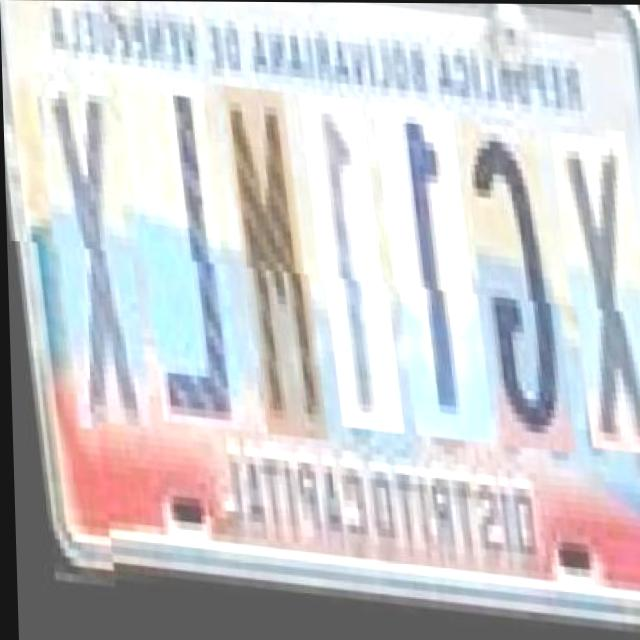1: (370, 109, 479, 448), (297, 102, 388, 439)
g: (457, 125, 561, 456)
l: (116, 85, 231, 441)
m: (220, 94, 312, 449)
x: (29, 76, 136, 441), (547, 133, 640, 456)
